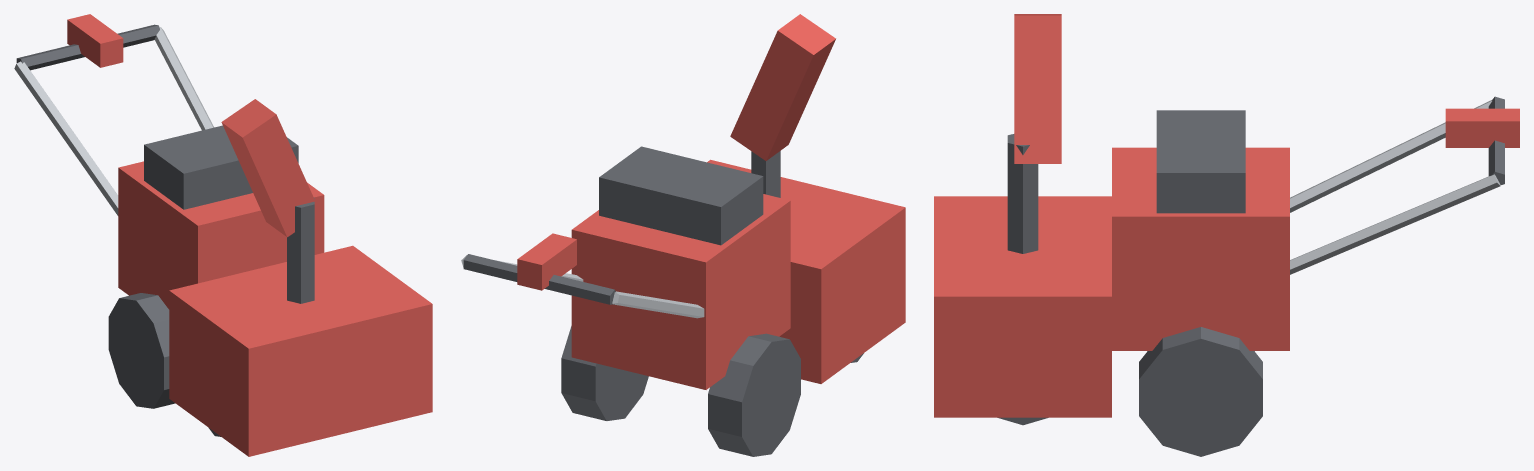
Rendered from blower.glb.
3 views of the same model, side by side, from view 1: azimuth 30°, elevation 25°; view 2: azimuth 150°, elevation 25°; view 3: azimuth 270°, elevation 25° (orthographic). The views are drawn at different scales.
Visible parts, largest first — view 1: snow-blower; view 2: snow-blower; view 3: snow-blower.
Part boxes in pixels (<box>): snow-blower: <box>14,14,432,456</box>; snow-blower: <box>461,14,905,456</box>; snow-blower: <box>934,14,1519,456</box>.
Size of the model in its own units: 0.8 by 1.41 by 1.97.
